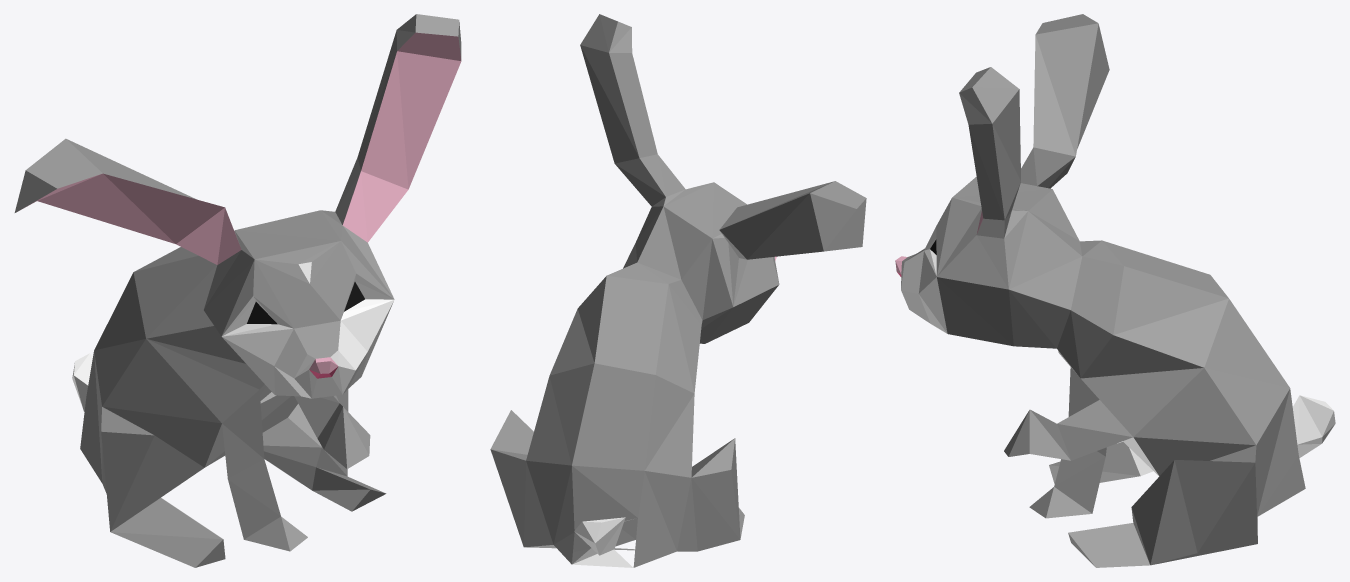
The model's file is rabbit_gray_noahlewis.glb.
3 renders of one model, left to right at view 1: azimuth 30°, elevation 25°; view 2: azimuth 150°, elevation 25°; view 3: azimuth 270°, elevation 25°, orthographic. The views are drawn at different scales.
Parts seen in each view (by area): view 1: Node; view 2: Node; view 3: Node.
Boxes of the visible parts, x1,y1,x2,y2 form: Node: (14, 14, 461, 567); Node: (490, 14, 866, 567); Node: (895, 14, 1335, 567).
Bounding box in the file's own units: 0.3108 × 0.4 × 0.3234.
2 materials, 2 textured.
